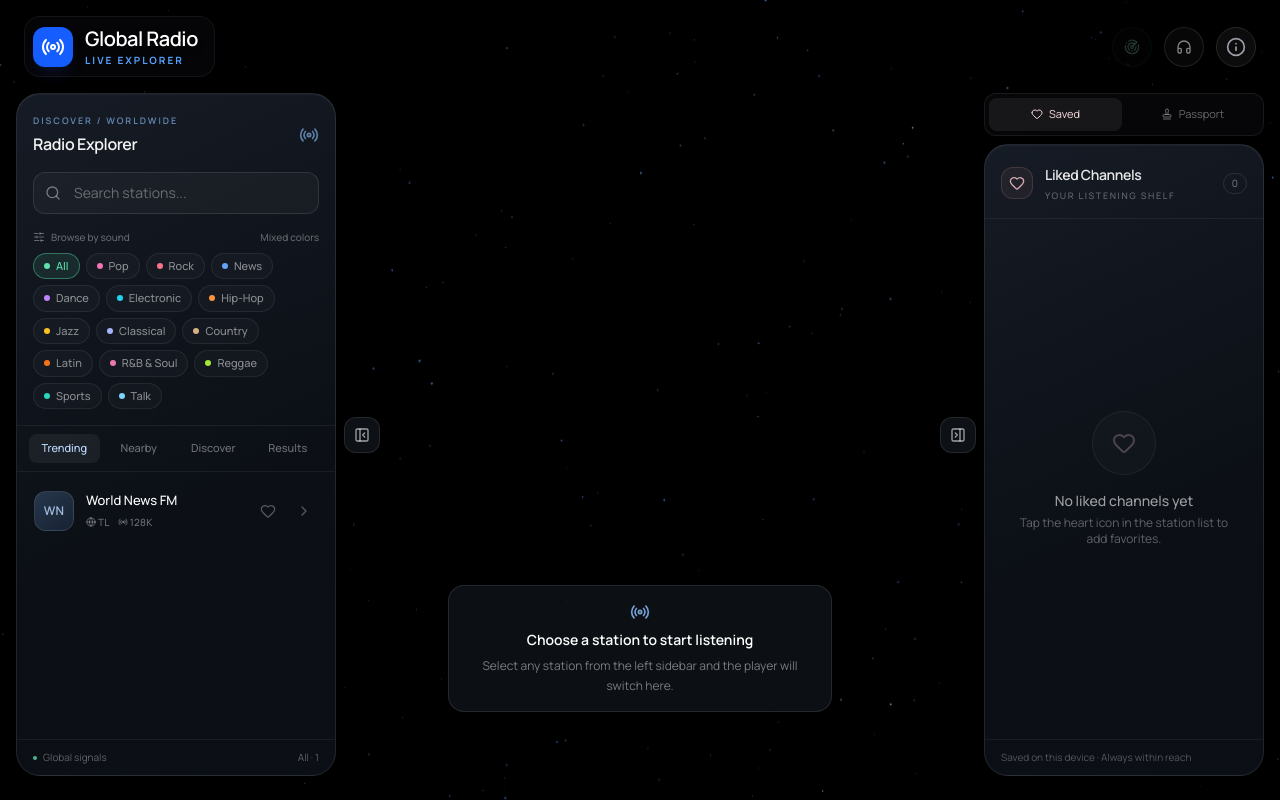
it: App › prevents an older search response from overriding a newer query
The width and height of the screenshot is (1280, 800).
expect the heading "World News FM" is shown: met, box top-left (86, 491), bottom-right (177, 509)
Type "ja" into the field with placeholder "Search stations..." at (176,192), box top-left (33, 172), bottom-right (319, 214)
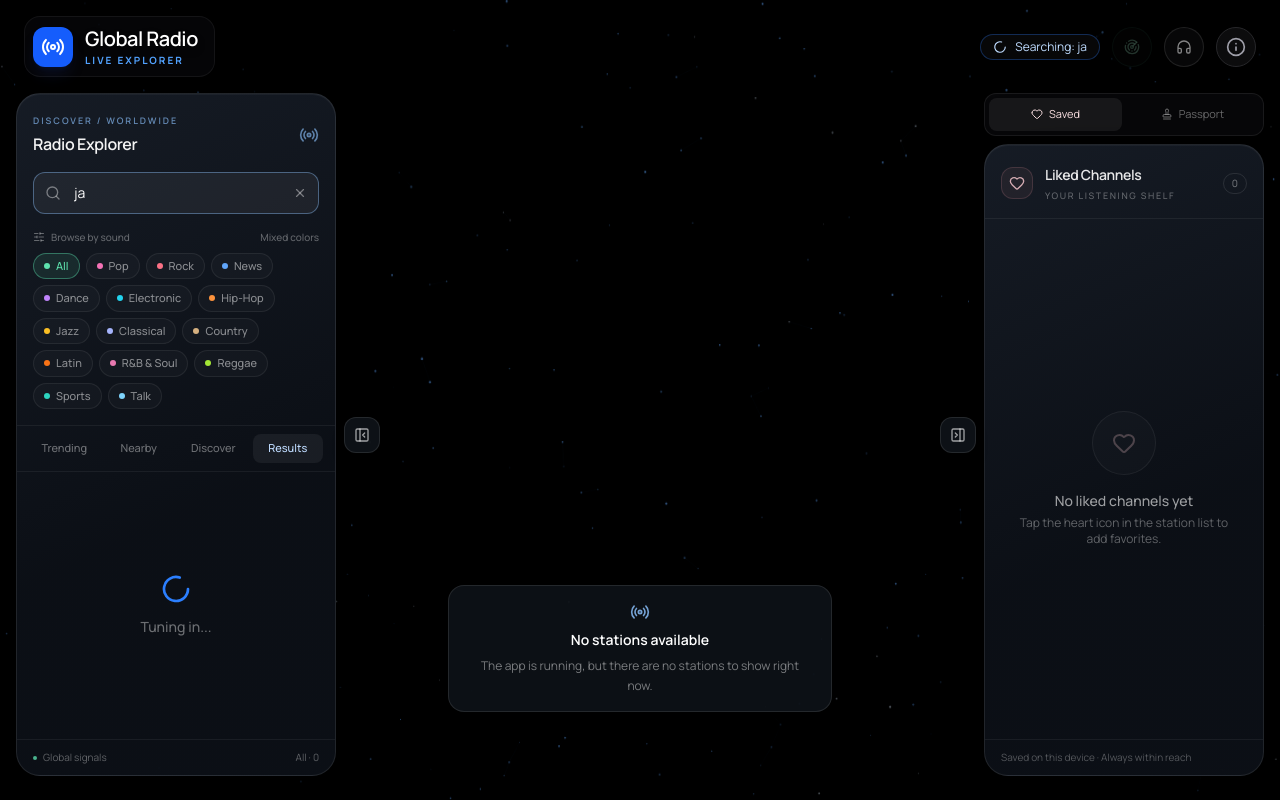
Replace the text in the field with placeholder "Search stations..." with "jazz" at (176,192), box top-left (33, 172), bottom-right (319, 214)
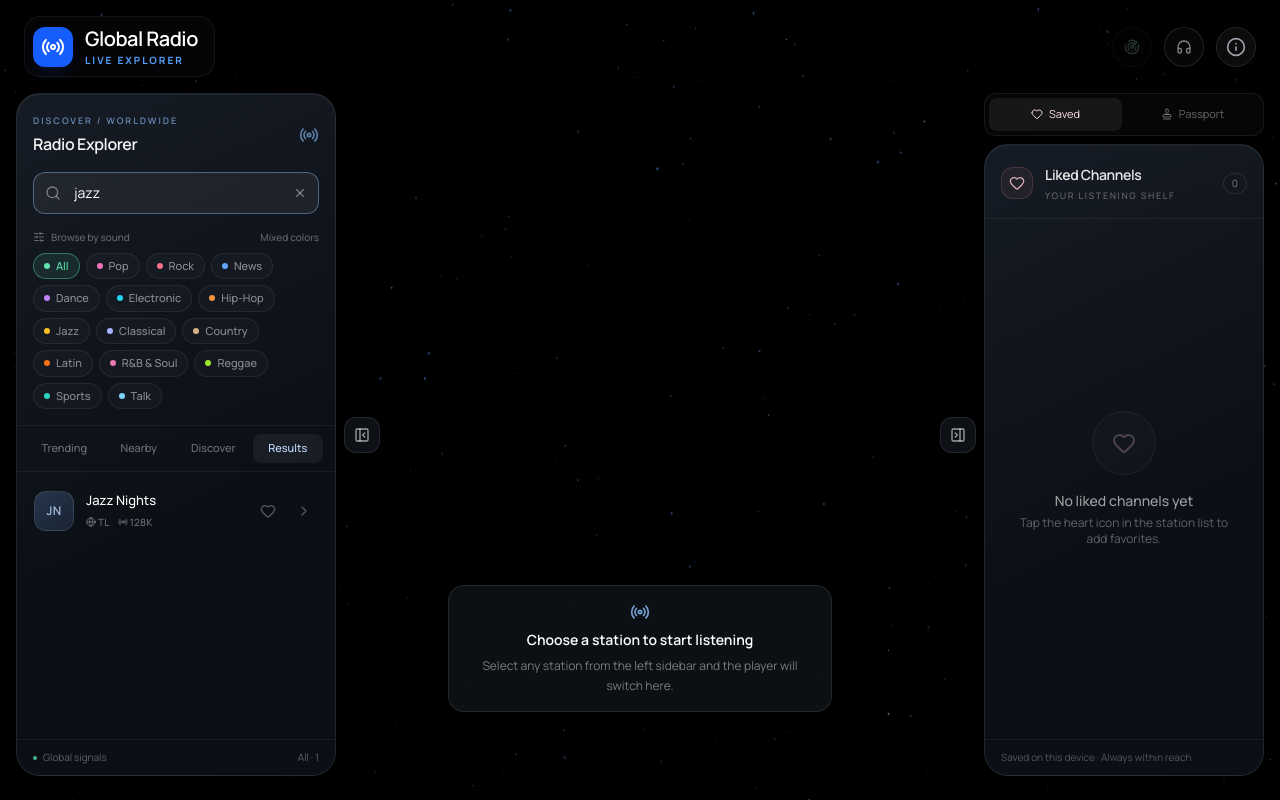
expect the heading "Jazz Nights" is shown: met, box top-left (86, 491), bottom-right (156, 509)
